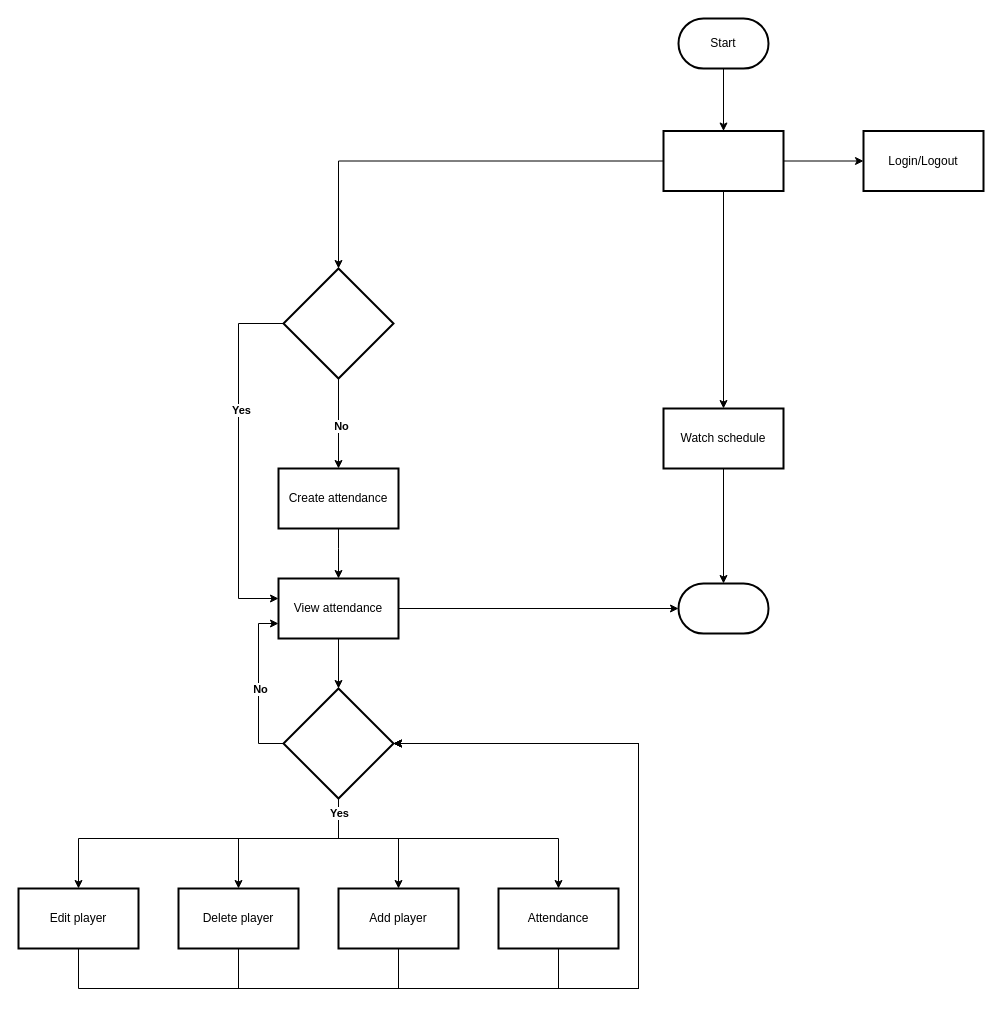
The diagram is 1001 pixels wide and 1014 high, and some of its shapes have lost their labels. The centre of each missing label's shape, as x and y in pixels:
"Edit attendance?" belongs at (x=338, y=743).
"End" belongs at (x=723, y=608).
"Home" belongs at (x=723, y=161).
"Is Attendance created?" belongs at (x=338, y=323).
